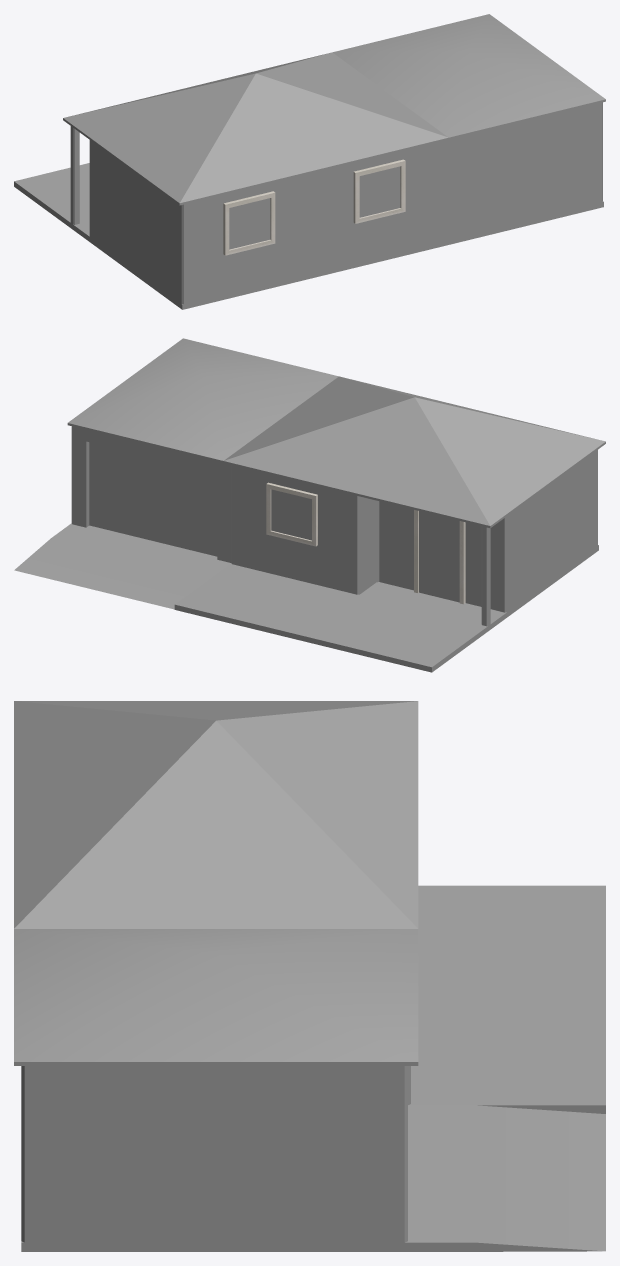
Rendered from house.fbx.
The picture shows the model from 3 angles, top to bottom: view 1: azimuth 30°, elevation 25°; view 2: azimuth 150°, elevation 25°; view 3: azimuth 270°, elevation 25°; orthographic projection. The views are drawn at different scales.
Parts seen in each view (by area): view 1: tetto, mura, tetto_garage, garage, base, vetro1 (×2), cornice1 (×2), base_garage, paletto; view 2: tetto, mura, base, tetto_garage, garage_serranda, base_garage, porta, garage_entryL, vetro1, garage_entryUP, garage_entryR, cornice1 (+2 smaller); view 3: tetto, garage, tetto_garage, base, base_garage.
Boxes of the visible parts, x1,y1,x2,y2 form: tetto: (63, 52, 448, 205); mura: (89, 140, 441, 304); tetto_garage: (332, 14, 605, 139); garage: (441, 102, 602, 241); base: (14, 163, 441, 309); vetro1 (×2): (229, 166, 400, 249); cornice1 (×2): (223, 159, 405, 255); base_garage: (441, 201, 603, 246); paletto: (70, 126, 79, 224); tetto: (223, 376, 605, 528); mura: (231, 450, 597, 612); base: (174, 545, 598, 672); tetto_garage: (67, 338, 338, 462); garage_serranda: (89, 442, 217, 556); base_garage: (14, 523, 230, 609); porta: (419, 511, 459, 602); garage_entryL: (72, 426, 89, 527); vetro1: (271, 489, 311, 540); garage_entryUP: (86, 430, 217, 473); garage_entryR: (217, 462, 231, 562); cornice1: (266, 482, 317, 546); tetto: (14, 701, 418, 928); garage: (21, 1066, 407, 1242); tetto_garage: (14, 929, 418, 1065); base: (408, 885, 605, 1113); base_garage: (21, 1105, 605, 1251).
Bounding box in the file's own units: 13.15 × 4.83 × 9.11.
